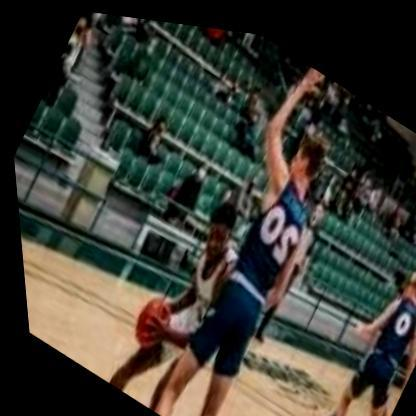basketball: (118, 278, 186, 359)
